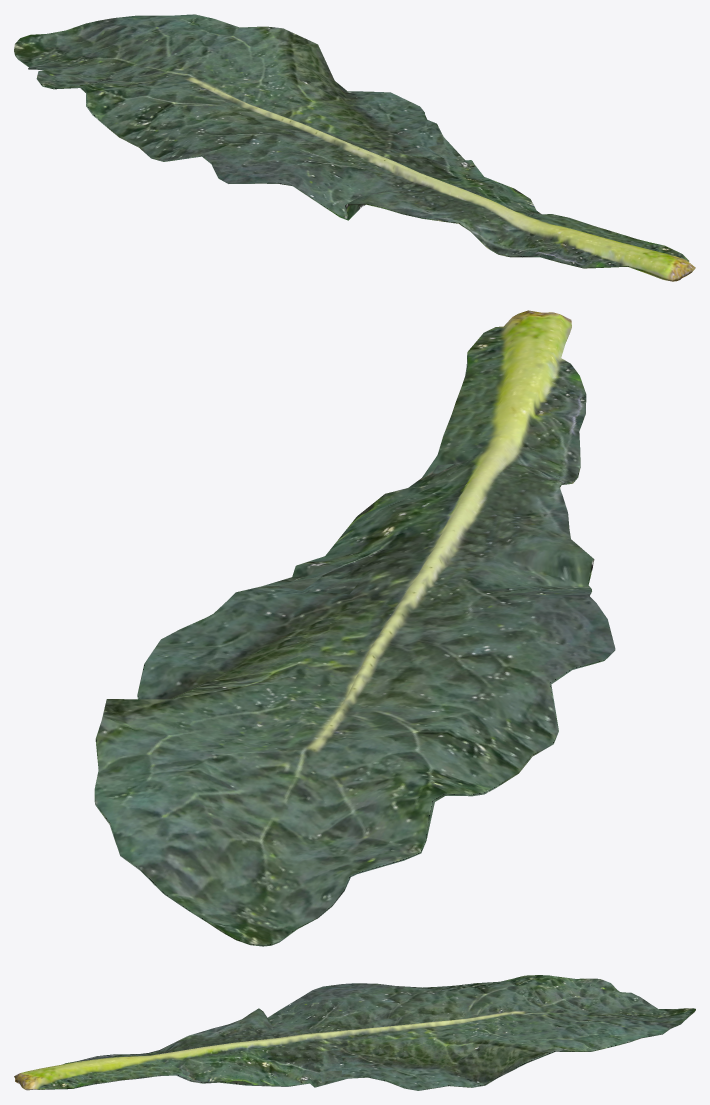
File: kale.fbx
The picture shows the model from 3 angles, top to bottom: view 1: azimuth 30°, elevation 25°; view 2: azimuth 150°, elevation 25°; view 3: azimuth 270°, elevation 25°; orthographic projection. The views are drawn at different scales.
Parts seen in each view (by area): view 1: polySurface1; view 2: polySurface1; view 3: polySurface1.
Boxes of the visible parts, x1=… form: polySurface1: x1=14, y1=14, x2=695, y2=281; polySurface1: x1=94, y1=310, x2=615, y2=946; polySurface1: x1=14, y1=975, x2=695, y2=1090.
Size of the model in its own units: 4.13 by 0.5469 by 10.3.
1 material, 1 textured.
